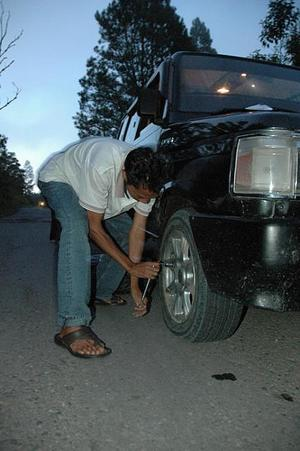person: (38, 135, 166, 358)
